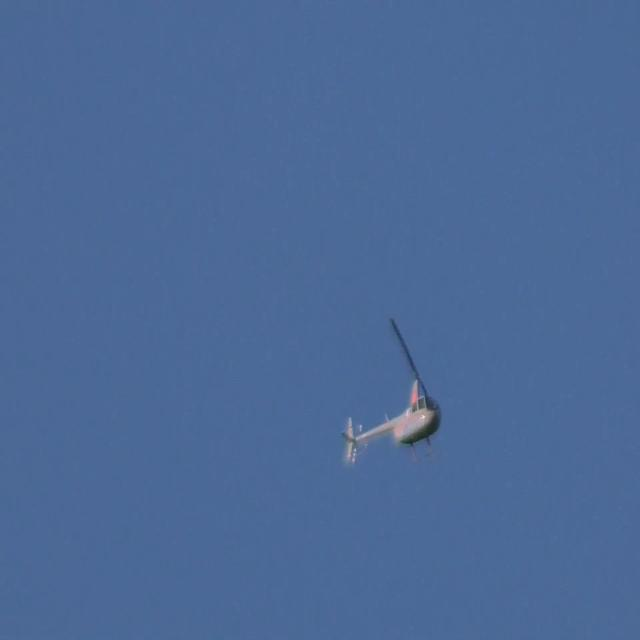CIV_HELO: (340, 372, 442, 468)
